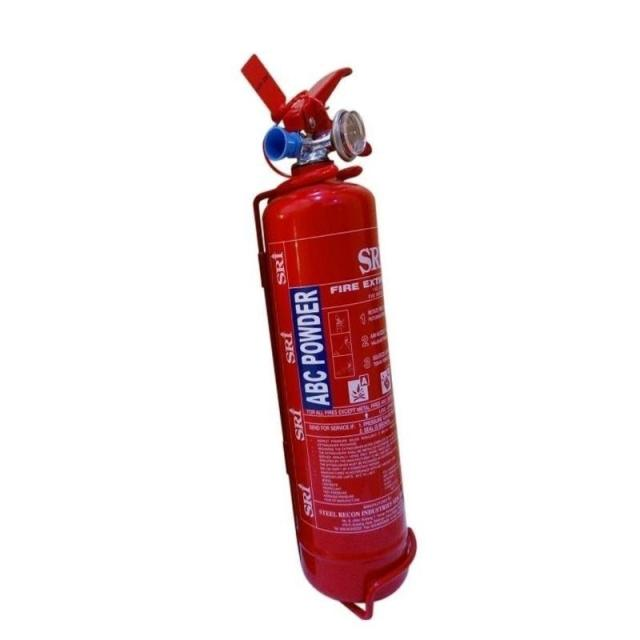fire_extinguisher: (238, 50, 413, 604)
